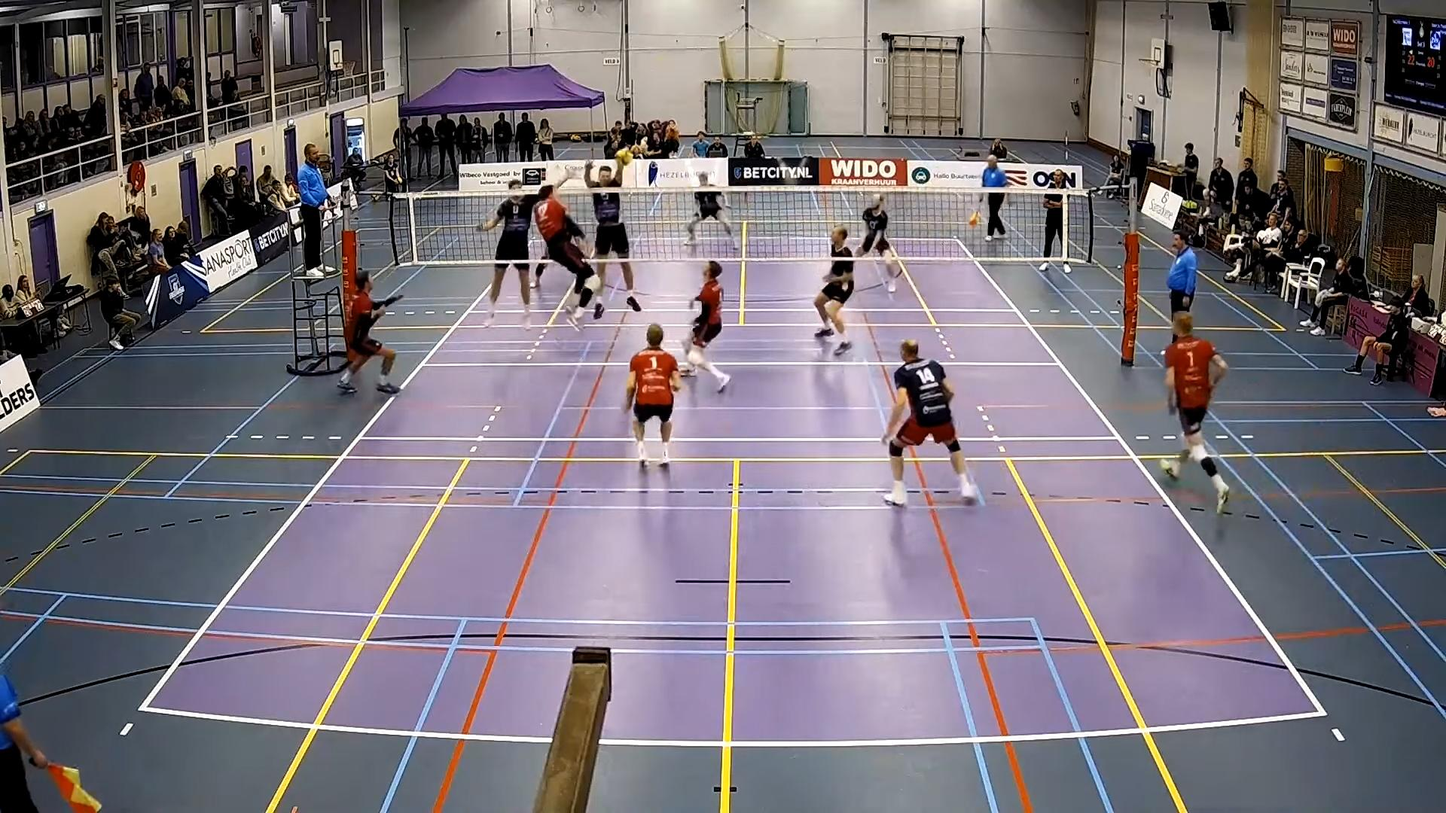Attack: (526, 167, 613, 326)
Block: (467, 162, 573, 329), (577, 143, 647, 320)
Player: (883, 340, 979, 505), (1161, 312, 1229, 512), (337, 271, 402, 394), (624, 324, 681, 464), (685, 260, 730, 391), (813, 226, 855, 355), (857, 194, 901, 292), (685, 172, 733, 244)
ball: (616, 149, 639, 162)
